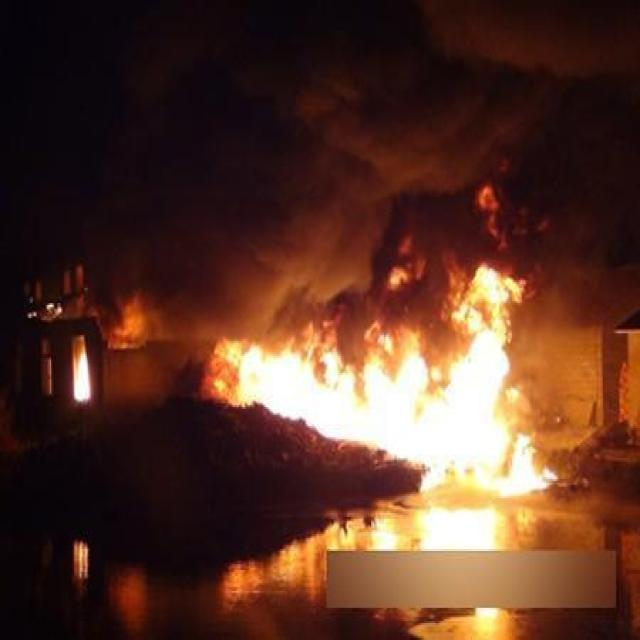Fire: (207, 265, 560, 500), (418, 509, 504, 551), (366, 513, 402, 553), (74, 348, 92, 404), (476, 610, 500, 620)
Smoke: (220, 2, 640, 398)
